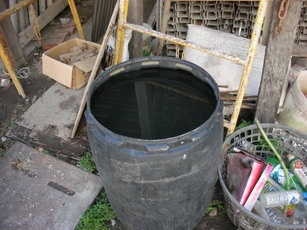bottle: (260, 189, 307, 209), (287, 152, 307, 187)
box: (41, 37, 101, 88), (226, 151, 263, 205)
bucket: (83, 56, 223, 230)
